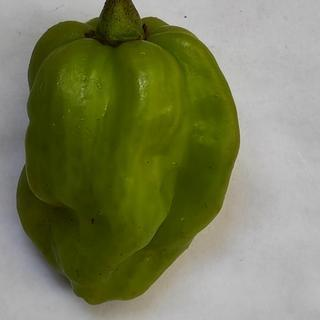Grade-A: (11, 14, 245, 306)
